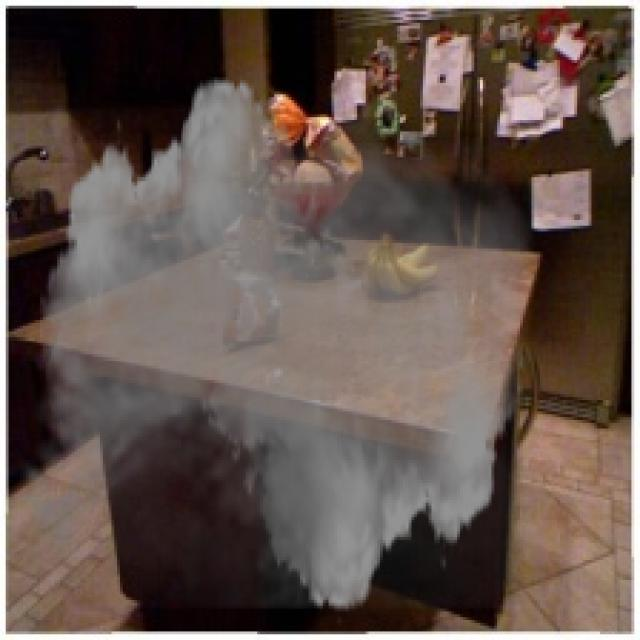smoke: (3, 60, 546, 629)
